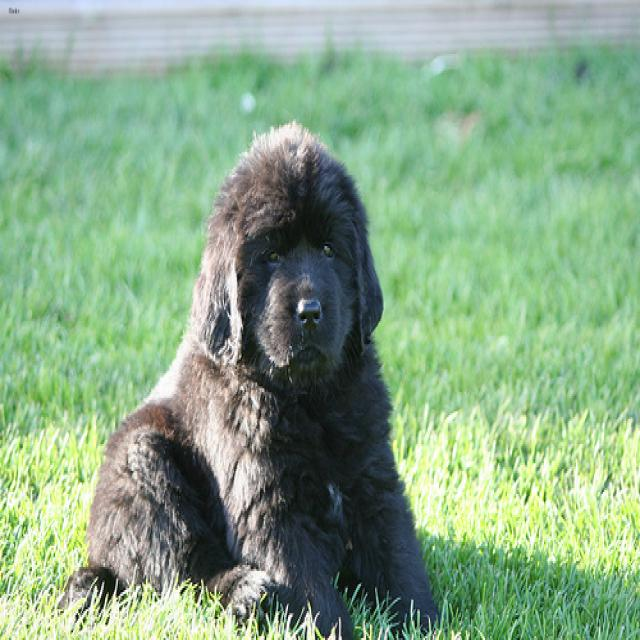dog-newfoundland: (51, 111, 447, 636)
